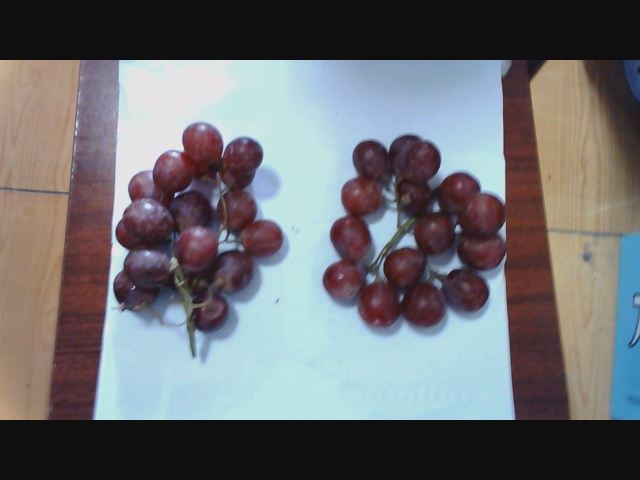grape: (328, 129, 509, 341), (108, 136, 270, 346)
